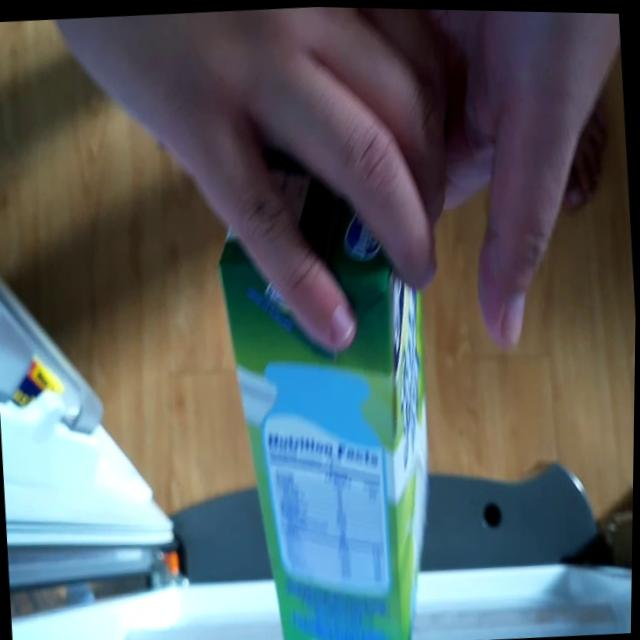milk: (210, 181, 448, 640)
